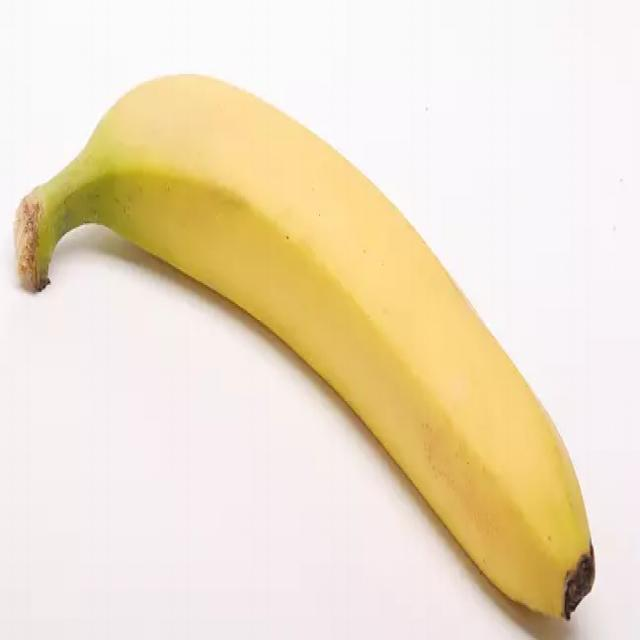Banana: (6, 71, 600, 618)
